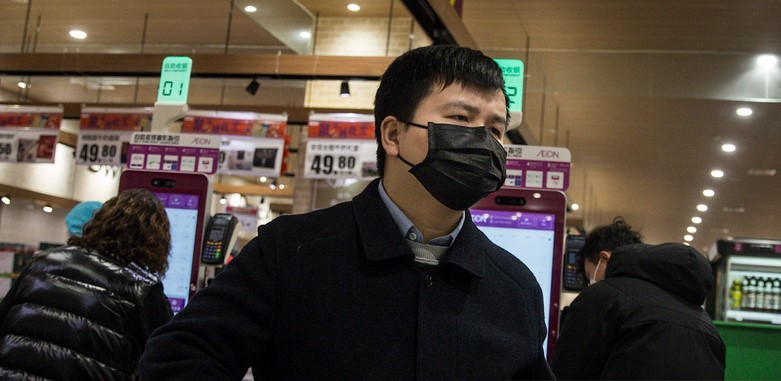face_with_mask: (374, 44, 510, 215)
